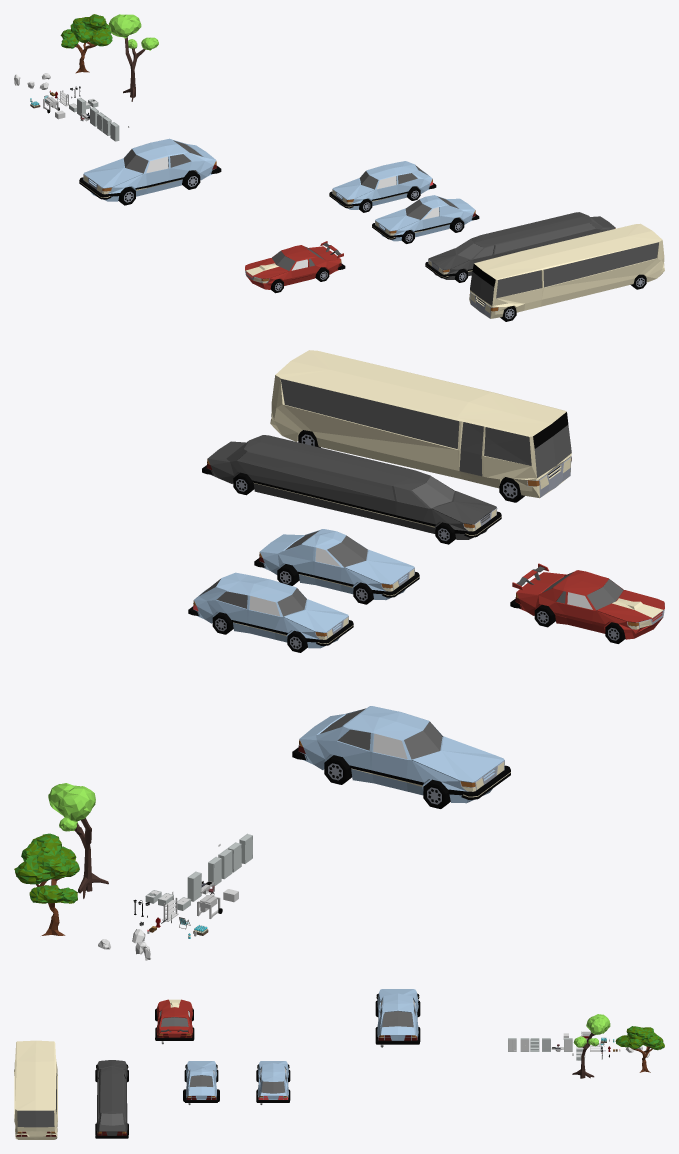
File: Generator.fbx
The picture shows the model from 3 angles, top to bottom: view 1: azimuth 30°, elevation 25°; view 2: azimuth 150°, elevation 25°; view 3: azimuth 270°, elevation 25°; orthographic projection. The views are drawn at different scales.
Visible parts, largest first — view 1: car body.006, car body.008, car body.005, car body.002, car body.003, car body.004, Leaves, Mball.003; view 2: car body.006, car body.005, car body.008, car body.002, car body.003, car body.004, Leaves, Mball.003; view 3: car body.006, car body.005, car body.008, car body.004, car body.003, car body.002, Leaves, Mball.003, Cube.027.
Boxes of the visible parts, <box> form: car body.006: <box>469,223,664,318</box>; car body.008: <box>79,138,221,201</box>; car body.005: <box>425,212,615,279</box>; car body.002: <box>329,161,436,209</box>; car body.003: <box>372,195,479,241</box>; car body.004: <box>245,245,345,289</box>; Leaves: <box>60,14,112,48</box>; Mball.003: <box>109,14,141,38</box>; car body.006: <box>270,350,571,498</box>; car body.005: <box>202,435,501,539</box>; car body.008: <box>292,706,510,803</box>; car body.002: <box>188,572,353,648</box>; car body.003: <box>254,529,419,600</box>; car body.004: <box>510,570,664,639</box>; Leaves: <box>14,833,79,903</box>; Mball.003: <box>48,783,95,821</box>; car body.006: <box>14,1040,57,1139</box>; car body.005: <box>95,1060,128,1138</box>; car body.008: <box>375,989,419,1044</box>; car body.004: <box>155,999,194,1040</box>; car body.003: <box>184,1061,218,1102</box>; car body.002: <box>256,1061,289,1102</box>; Leaves: <box>615,1026,664,1050</box>; Mball.003: <box>586,1014,610,1034</box>; Cube.027: <box>572,1032,595,1078</box>.
Size of the model in its own units: 7872 by 1598 by 15085.
